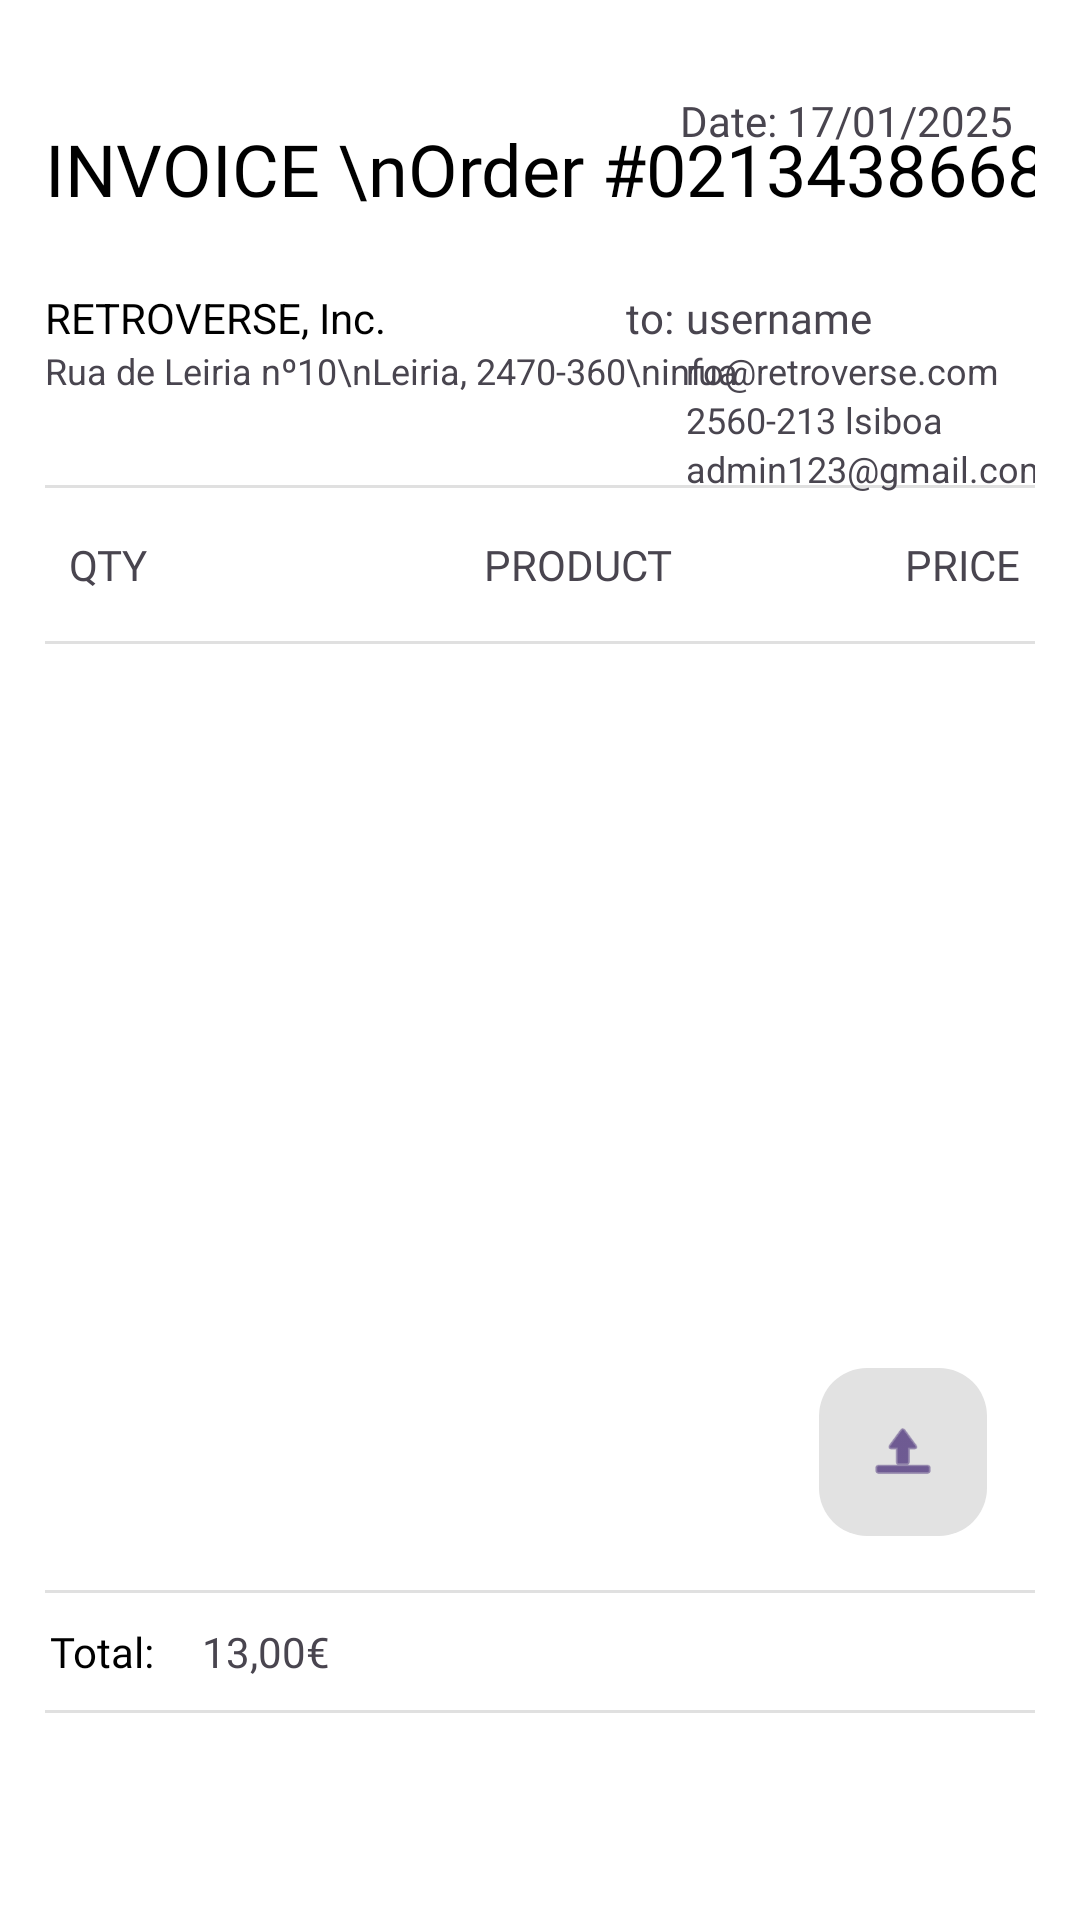

Icons on this 1080px×1920px Android screen, each with the point to tap as (x=x, y=y):
upload: (x=903, y=1452)
